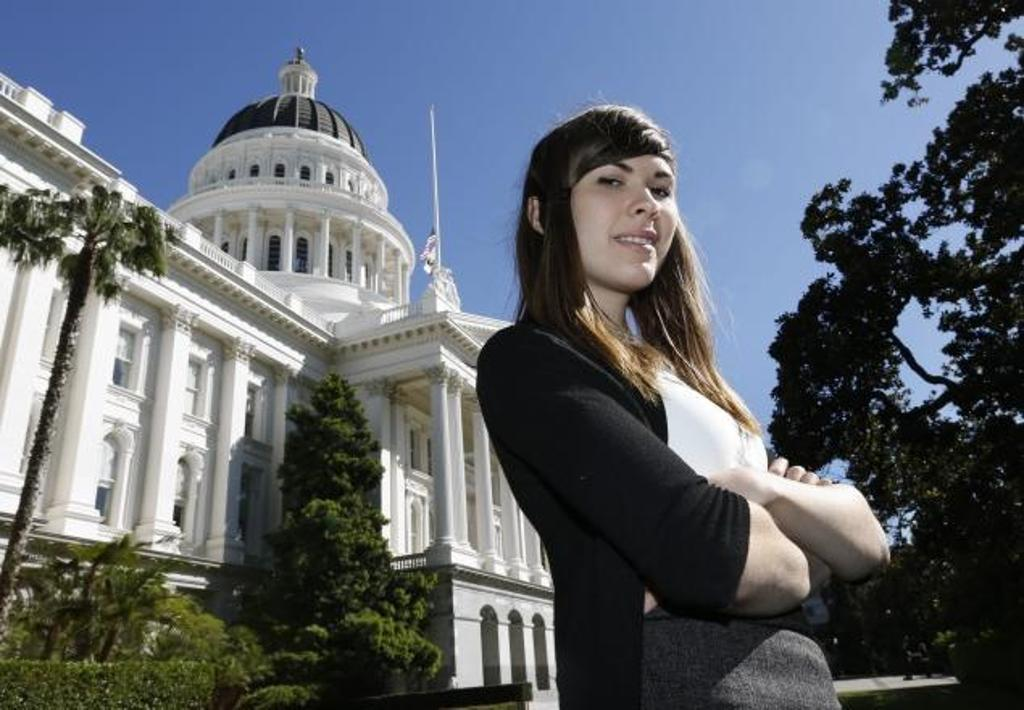face: (571, 139, 679, 293)
